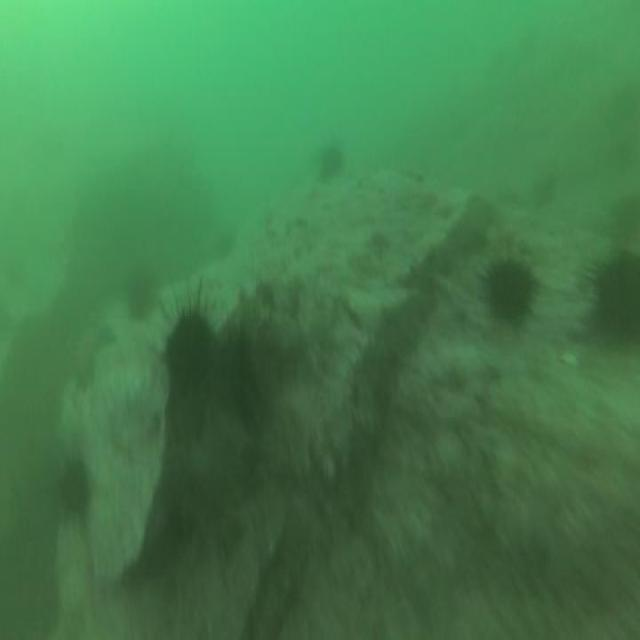echinus: (586, 240, 640, 349), (162, 297, 218, 401), (479, 246, 539, 332), (54, 450, 92, 525), (127, 275, 157, 324), (316, 138, 346, 186)
holothurian: (156, 398, 252, 539), (345, 332, 397, 439)
